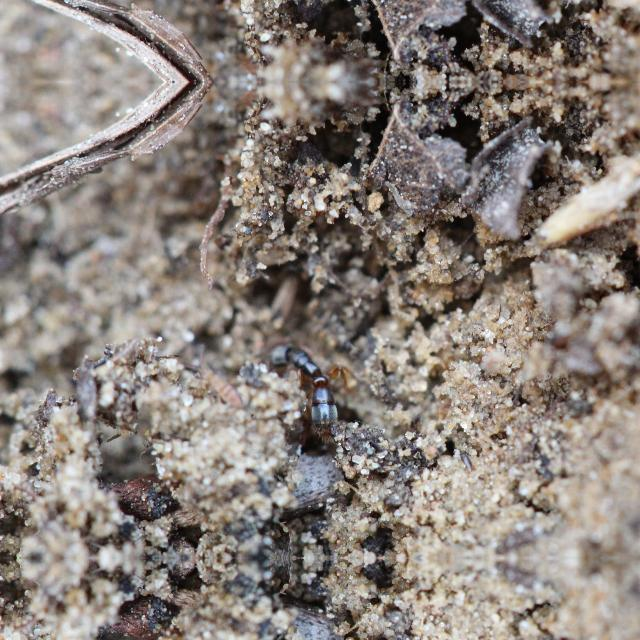Ponera: (268, 330, 359, 444)
